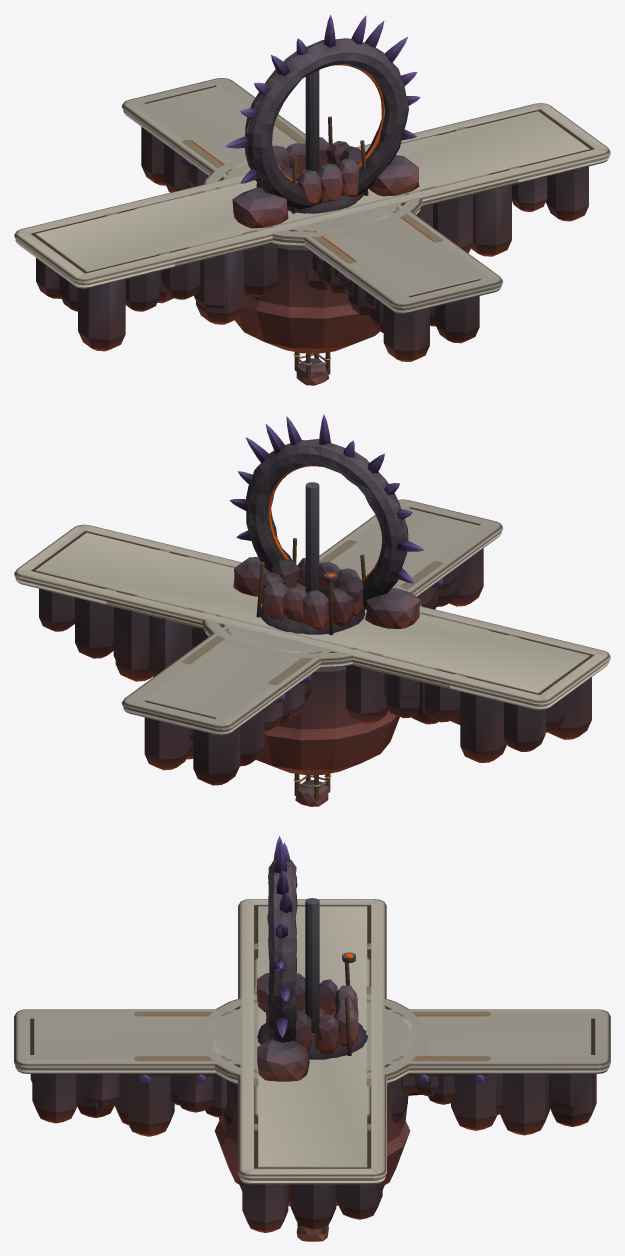
File: volcano-2-BHHCKWwU.glb
3 renders of one model, top to bottom at view 1: azimuth 30°, elevation 25°; view 2: azimuth 150°, elevation 25°; view 3: azimuth 270°, elevation 25°, orthographic. The views are drawn at different scales.
Parts seen in each view (by area): view 1: block_44x2x10#1, block_9x2x40_grate#0, portal_#0, disc_16x1.5#1, block_30x2x10_column#0, hopper_4x3#0, block_8x2x40_grate#0, belt_8x1.5x24x0#0, press_4x6x9#0, truss_14#0, geyserVent_3#0, block_8x2x16#1 (+1 smaller); view 2: block_44x2x10#1, block_9x2x40_grate#0, portal_#0, disc_16x1.5#1, hopper_4x3#0, block_30x2x10_column#0, block_8x2x40_grate#0, press_4x6x9#0, belt_8x1.5x24x0#0, geyserVent_3#0, truss_14#0, block_26x2x8_grate#0 (+1 smaller); view 3: block_9x2x40_grate#0, block_44x2x10#1, disc_16x1.5#1, portal_#0, block_8x2x40_grate#0, hopper_4x3#0, belt_8x1.5x24x0#0, press_4x6x9#0, block_8x2x16#1, geyserVent_3#0, block_26x2x8_grate#0.
Part boxes in pixels (<box>): block_44x2x10#1: <box>14,103,610,351</box>; block_9x2x40_grate#0: <box>121,78,503,361</box>; portal_#0: <box>225,14,420,228</box>; disc_16x1.5#1: <box>203,146,422,353</box>; block_30x2x10_column#0: <box>103,127,520,324</box>; hopper_4x3#0: <box>256,116,368,213</box>; block_8x2x40_grate#0: <box>137,83,490,332</box>; belt_8x1.5x24x0#0: <box>182,118,442,280</box>; press_4x6x9#0: <box>305,70,319,170</box>; truss_14#0: <box>293,352,331,385</box>; geyserVent_3#0: <box>287,162,364,213</box>; block_8x2x16#1: <box>220,142,404,271</box>; block_44x2x10#1: <box>14,524,610,762</box>; block_9x2x40_grate#0: <box>121,499,502,785</box>; portal_#0: <box>229,414,424,628</box>; disc_16x1.5#1: <box>202,568,421,775</box>; hopper_4x3#0: <box>256,538,366,635</box>; block_30x2x10_column#0: <box>104,548,521,724</box>; block_8x2x40_grate#0: <box>134,505,487,770</box>; press_4x6x9#0: <box>305,482,319,593</box>; belt_8x1.5x24x0#0: <box>182,540,443,702</box>; geyserVent_3#0: <box>260,582,365,634</box>; truss_14#0: <box>293,773,331,806</box>; block_26x2x8_grate#0: <box>133,556,491,724</box>; block_9x2x40_grate#0: <box>14,1009,610,1136</box>; block_44x2x10#1: <box>238,899,386,1232</box>; disc_16x1.5#1: <box>197,994,427,1206</box>; portal_#0: <box>256,836,309,1081</box>; block_8x2x40_grate#0: <box>29,1014,596,1126</box>; hopper_4x3#0: <box>265,952,358,1056</box>; belt_8x1.5x24x0#0: <box>134,1011,490,1082</box>; press_4x6x9#0: <box>305,898,319,1035</box>; block_8x2x16#1: <box>197,1016,427,1117</box>; geyserVent_3#0: <box>257,1007,367,1059</box>; block_26x2x8_grate#0: <box>254,957,370,1116</box>.
Bounding box in the file's own units: 44 × 29.66 × 40.
